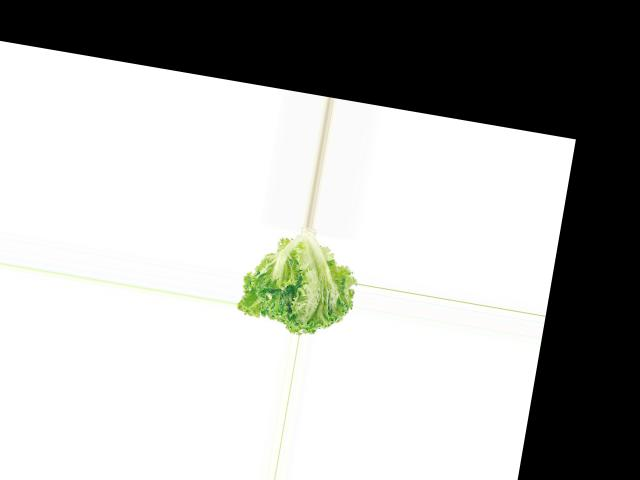lettuce: (235, 217, 365, 342)
